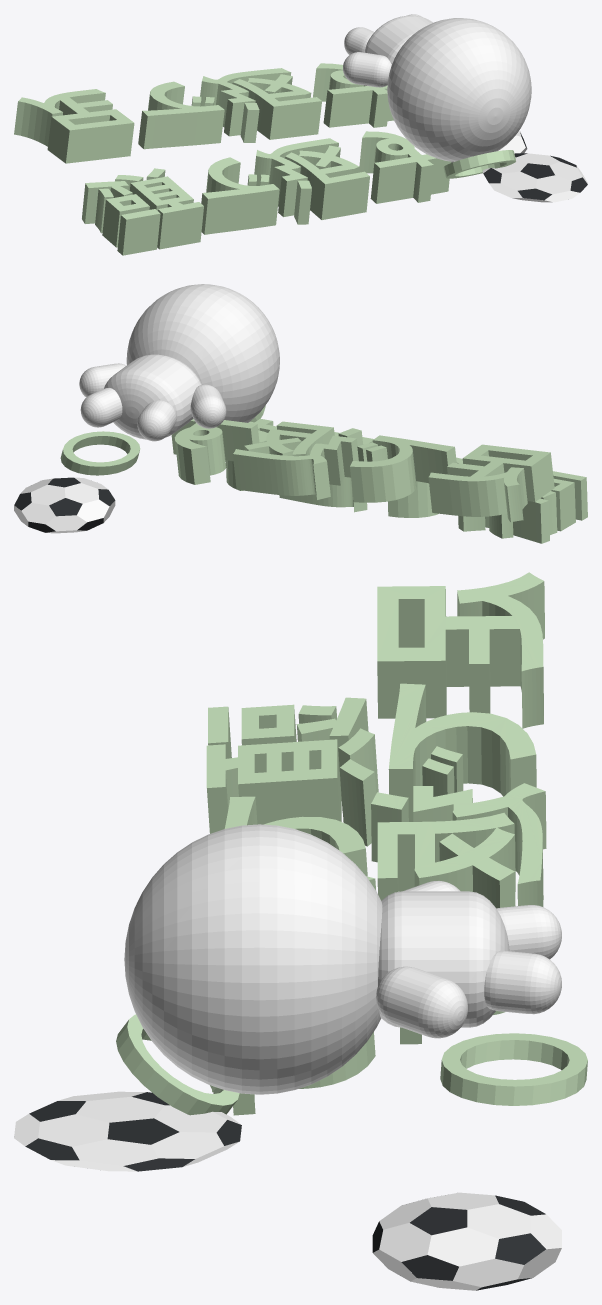
File: tinker.obj
The picture shows the model from 3 angles, top to bottom: view 1: azimuth 30°, elevation 25°; view 2: azimuth 150°, elevation 25°; view 3: azimuth 270°, elevation 25°; orthographic projection. The views are drawn at different scales.
Parts seen in each view (by area): view 1: group_0_13165757, group_0_16448250, group_0_2829873; view 2: group_0_13165757, group_0_16448250, group_0_2829873; view 3: group_0_16448250, group_0_13165757, group_0_2829873.
Boxes of the visible parts, bbox=[...] form: group_0_13165757: bbox=[14, 63, 515, 255]; group_0_16448250: bbox=[343, 14, 587, 202]; group_0_2829873: bbox=[483, 132, 587, 200]; group_0_13165757: bbox=[60, 405, 587, 543]; group_0_16448250: bbox=[14, 284, 279, 533]; group_0_2829873: bbox=[14, 477, 115, 532]; group_0_16448250: bbox=[14, 824, 561, 1290]; group_0_13165757: bbox=[116, 572, 587, 1115]; group_0_2829873: bbox=[25, 1092, 545, 1290].
Size of the model in its own units: 156 by 60 by 84.83.
